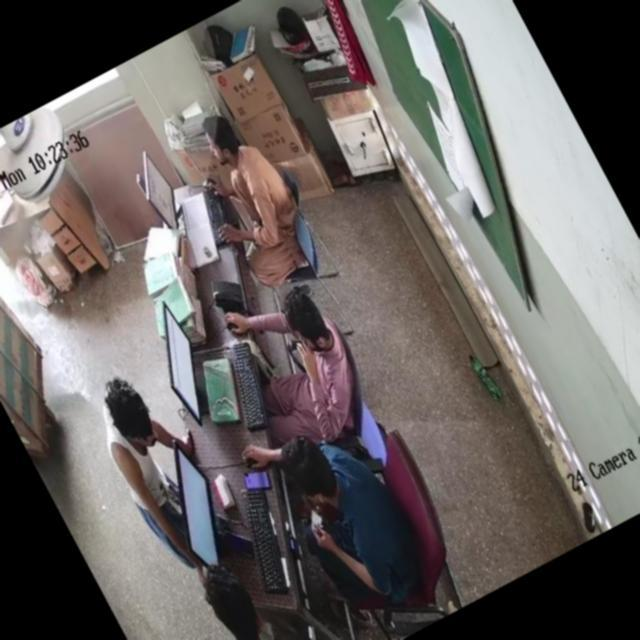person: (264, 410, 435, 614), (78, 362, 216, 552), (218, 280, 372, 450), (182, 100, 311, 272), (179, 543, 311, 640)
